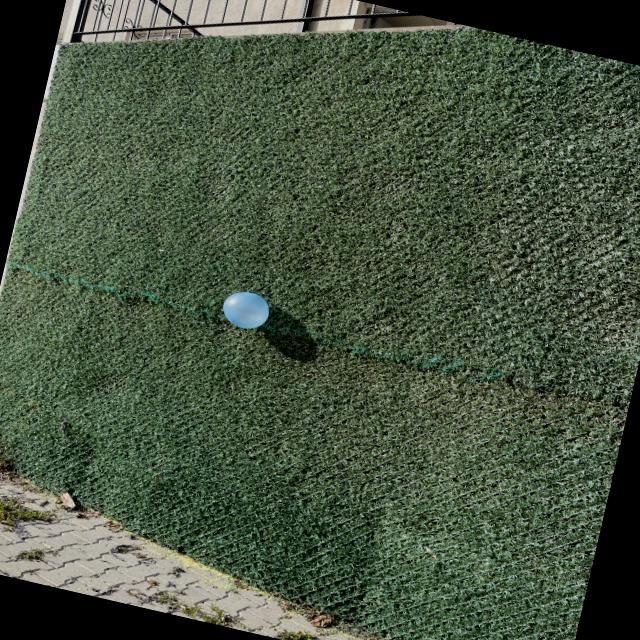balloon: (223, 292, 268, 328)
